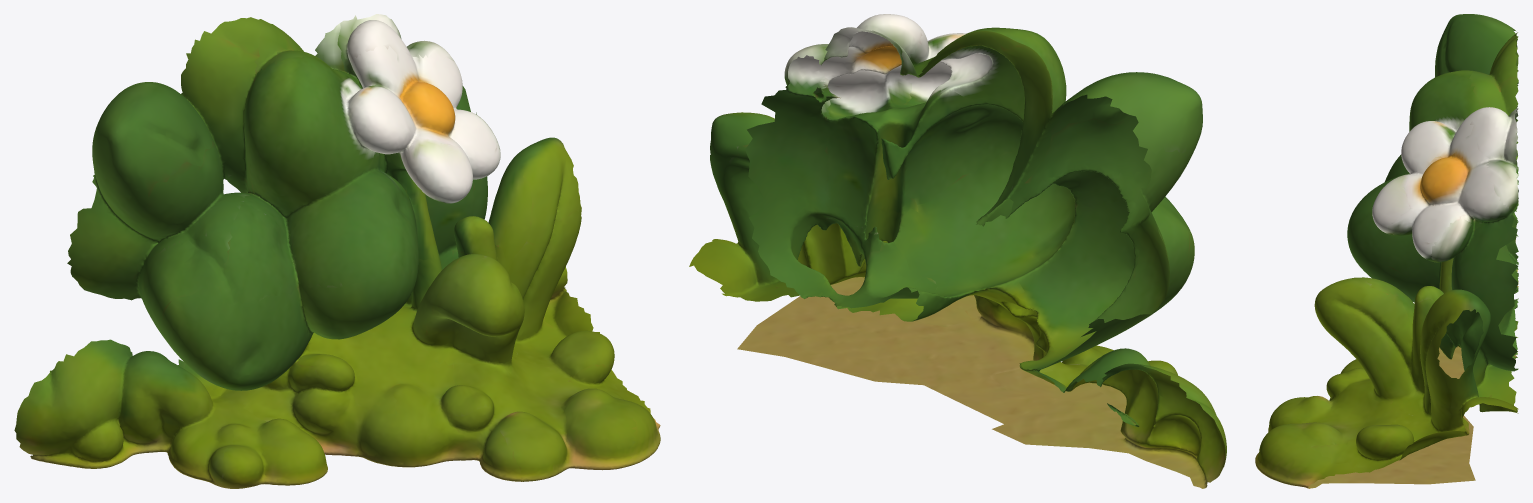
File: cottage-flowers.glb
3 renders of one model, left to right at view 1: azimuth 30°, elevation 25°; view 2: azimuth 150°, elevation 25°; view 3: azimuth 270°, elevation 25°, orthographic. The views are drawn at different scales.
Visible parts, largest first — view 1: Original cottage front flowers; view 2: Original cottage front flowers; view 3: Original cottage front flowers.
Boxes of the visible parts, bbox=[...] form: Original cottage front flowers: bbox=[14, 14, 660, 488]; Original cottage front flowers: bbox=[689, 14, 1226, 488]; Original cottage front flowers: bbox=[1255, 14, 1518, 488].
Size of the model in its own units: 0.3628 by 0.2605 by 0.1901.
Materials: 1 (1 with a texture image).
